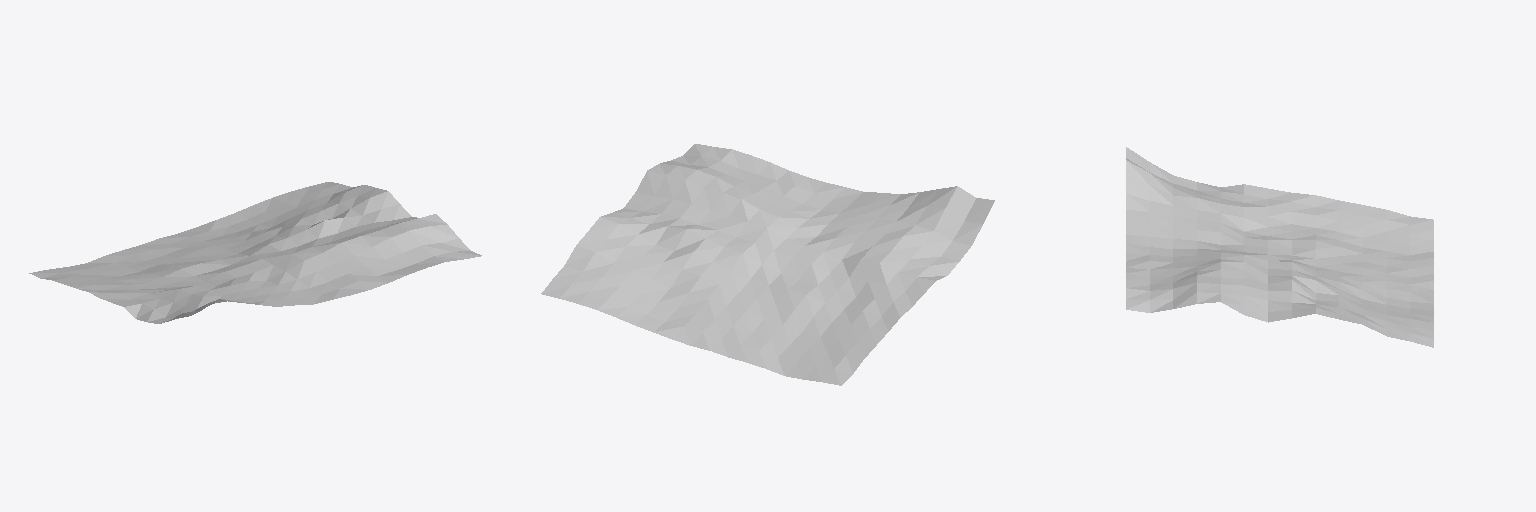
The model's file is SALDES_esllavissada_02.obj.
3 views of the same model, side by side, from view 1: azimuth 30°, elevation 25°; view 2: azimuth 150°, elevation 25°; view 3: azimuth 270°, elevation 25° (orthographic).
Visible parts, largest first — view 1: inter_MetElipResi_2_inter_MetElipResi_2.001; view 2: inter_MetElipResi_2_inter_MetElipResi_2.001; view 3: inter_MetElipResi_2_inter_MetElipResi_2.001.
Boxes of the visible parts, x1=… form: inter_MetElipResi_2_inter_MetElipResi_2.001: x1=29, y1=182, x2=481, y2=323; inter_MetElipResi_2_inter_MetElipResi_2.001: x1=541, y1=144, x2=994, y2=385; inter_MetElipResi_2_inter_MetElipResi_2.001: x1=1126, y1=147, x2=1433, y2=347.
Bounding box in the file's own units: 21.95 × 5.73 × 19.48.